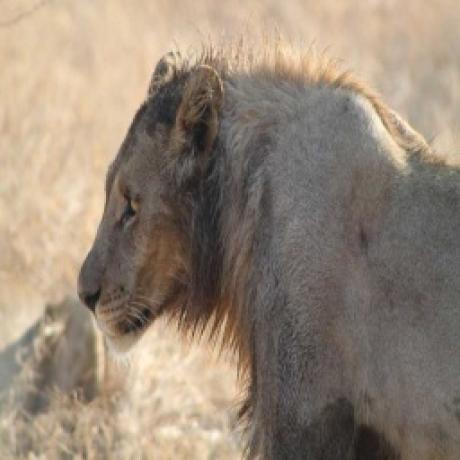Lion: (74, 49, 460, 460)
